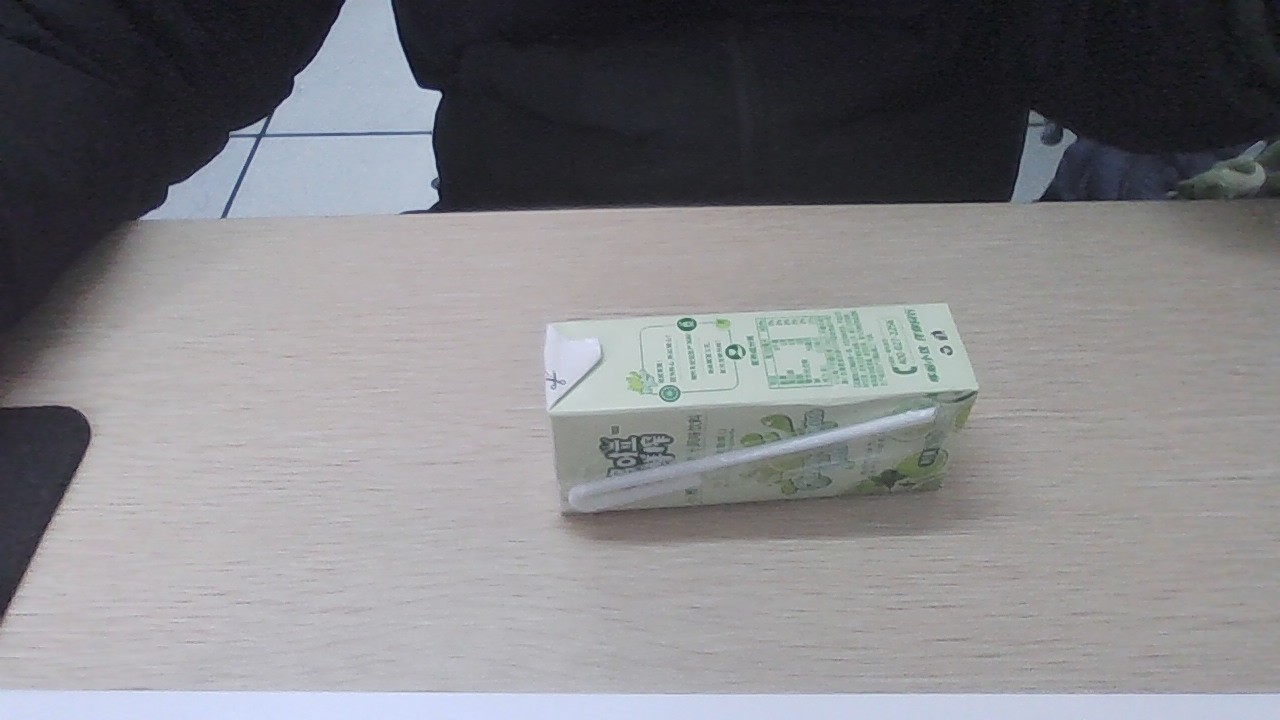CY-drink: (544, 313, 957, 508)
